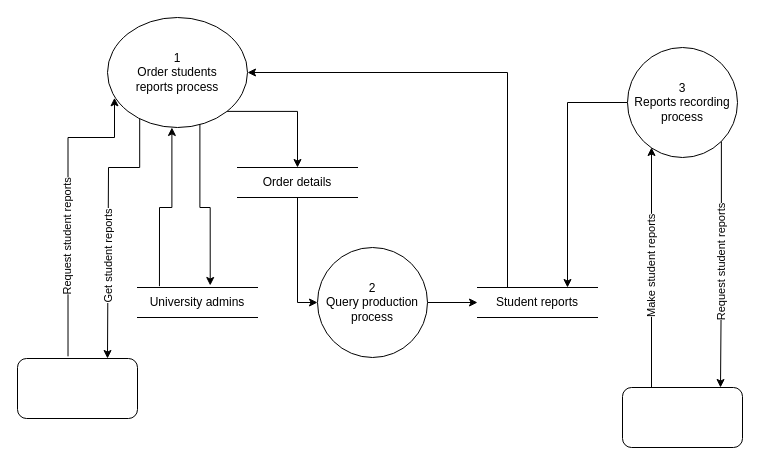
This 760x465 diagram has some shape labels left out. Here are the shapes that lost their labels. From the top down, the box of each, then its label:
(16, 358, 138, 418): Lab staff
(622, 386, 742, 448): Doctors
